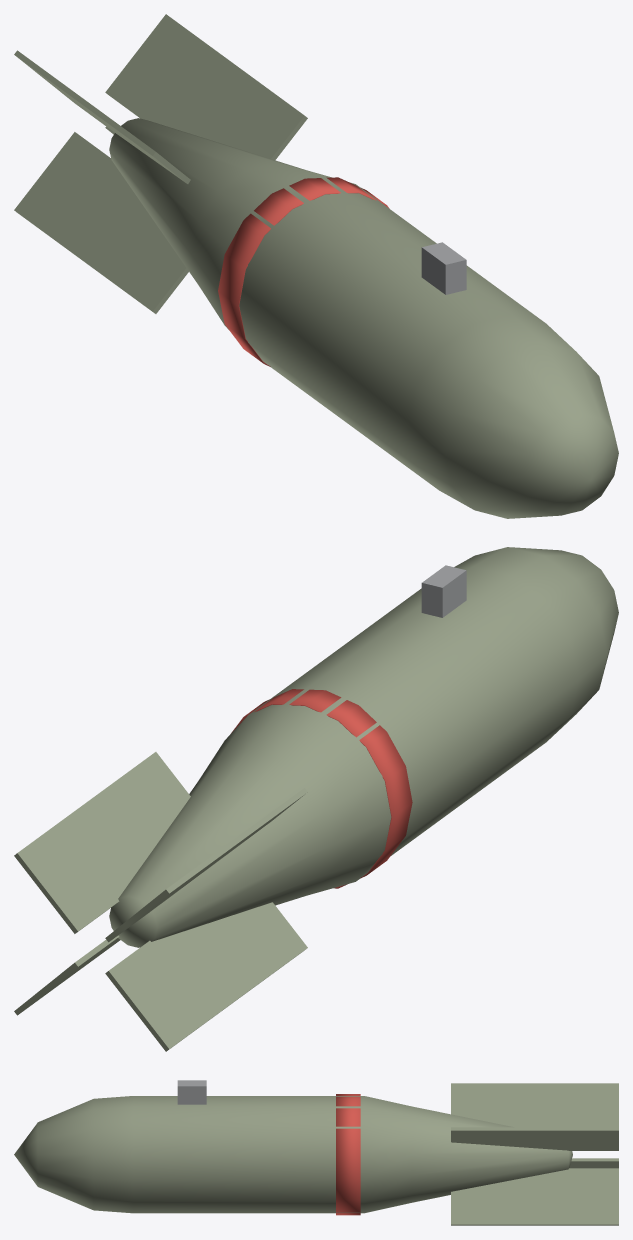
File: fab250sv.glb
3 views of the same model, one above another, from view 1: azimuth 30°, elevation 25°; view 2: azimuth 150°, elevation 25°; view 3: azimuth 270°, elevation 25° (orthographic). The views are drawn at different scales.
Parts seen in each view (by area): view 1: fab250sv_body; view 2: fab250sv_body; view 3: fab250sv_body.
Part boxes in pixels (left/top/right/bottom): fab250sv_body: left=14, top=14, right=618, bottom=518; fab250sv_body: left=14, top=547, right=618, bottom=1051; fab250sv_body: left=14, top=1080, right=618, bottom=1225.
Size of the model in its own units: 0.2935 by 0.3367 by 1.46.
